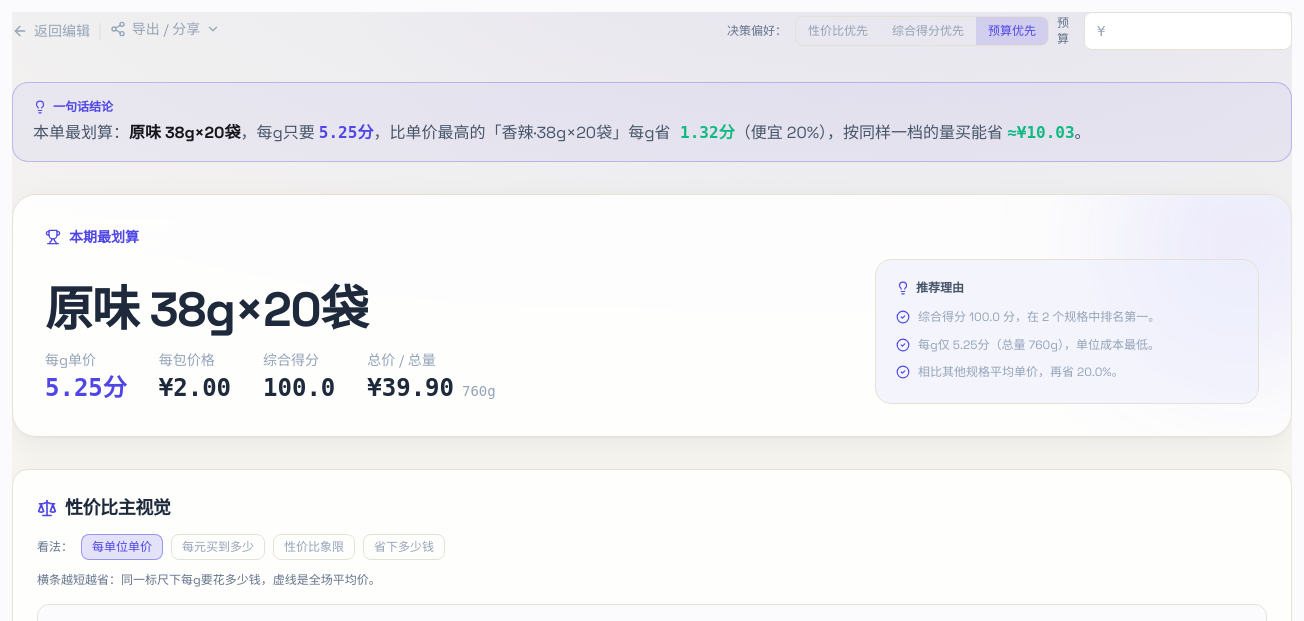
it: Report 预算输入 › 多个小数点只保留第一个
In the field named "预算": (1188,31) [1084,12,1292,50], type "1.2.3"
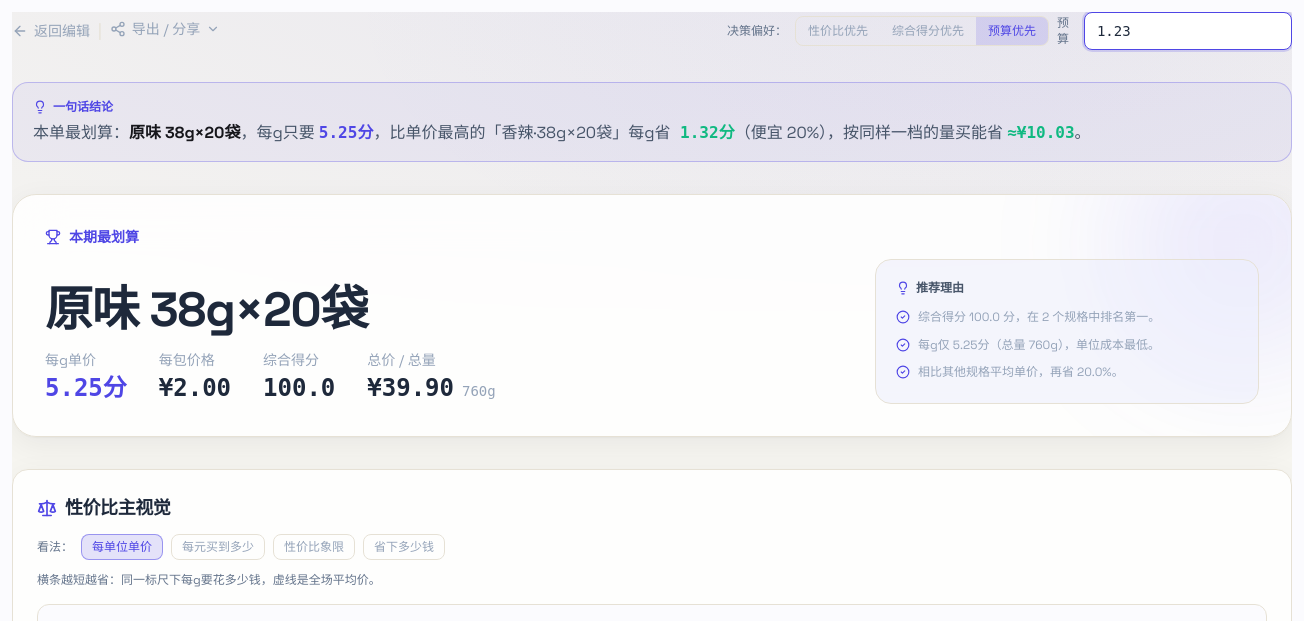
Expected: the field named "预算" holds "1.23", [1084,12,1292,50]
